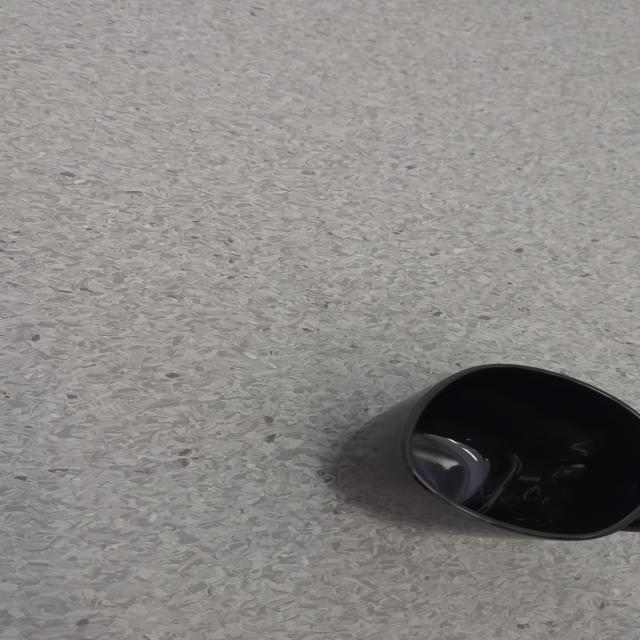mug: (332, 363, 639, 541)
